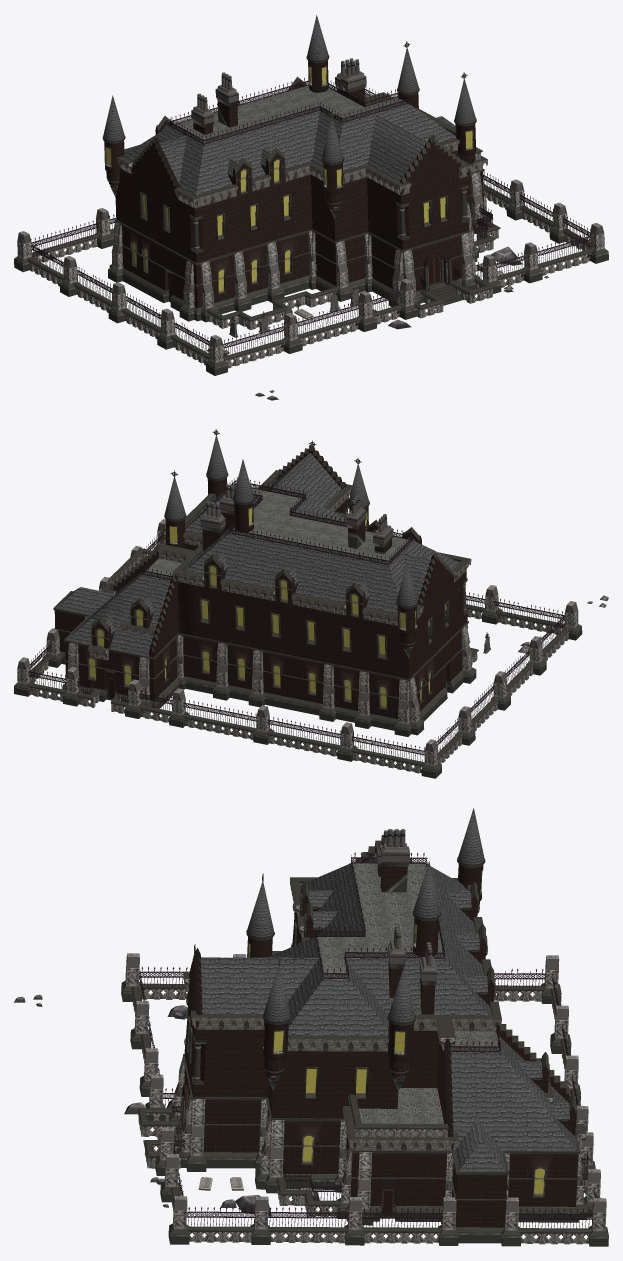
Rendered from house.fbx.
The picture shows the model from 3 angles, top to bottom: view 1: azimuth 30°, elevation 25°; view 2: azimuth 150°, elevation 25°; view 3: azimuth 270°, elevation 25°; orthographic projection. The views are drawn at different scales.
Parts seen in each view (by area): view 1: SM_L2_wall_A_04, SM_L2_wall_A_04.001; view 2: SM_L2_wall_A_04; view 3: SM_L2_wall_A_04, SM_L2_wall_A_04.001.
Part boxes in pixels (x1,y1,x2,y2): SM_L2_wall_A_04: (14,15,608,400); SM_L2_wall_A_04.001: (423,249,473,312); SM_L2_wall_A_04: (14,429,608,778); SM_L2_wall_A_04: (14,808,608,1246); SM_L2_wall_A_04.001: (139,1085,188,1155).
Bounding box in the file's own units: 2515 × 1261 × 2367.
